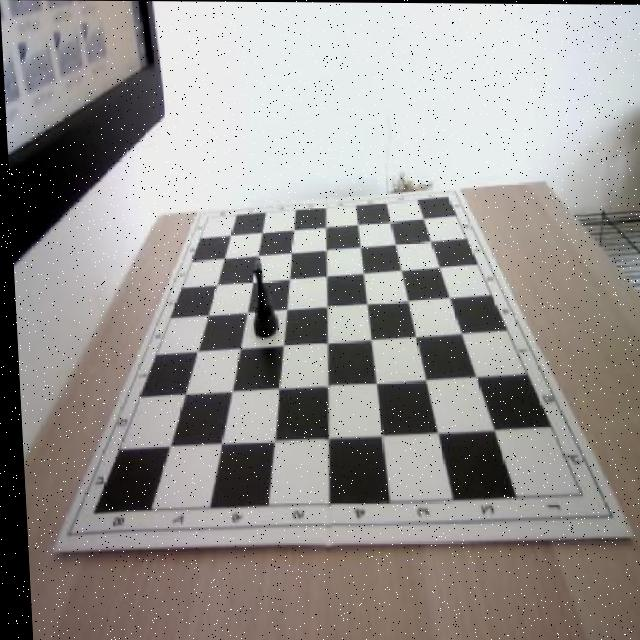black-king: (245, 252, 277, 346)
